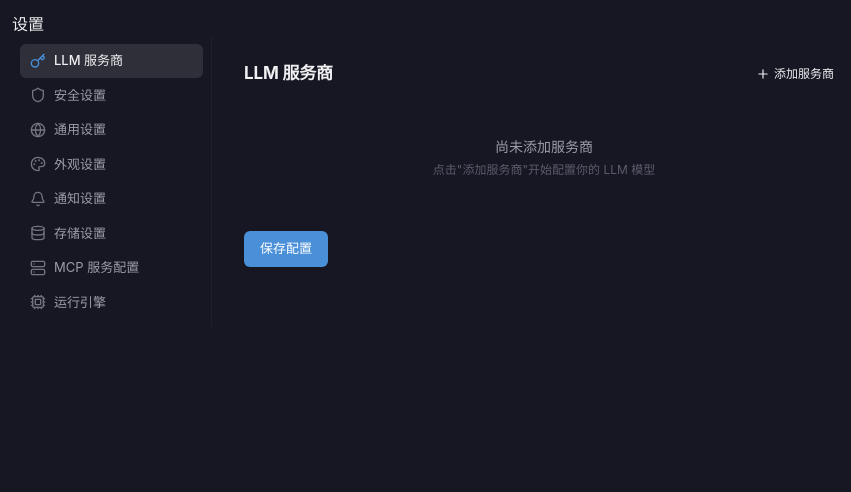
Test case: SettingsView — E2E 关键路径 › renders storage info in storage section
The width and height of the screenshot is (851, 492).
Click the button "存储设置". click: (112, 233)
box: [20,216,203,250]
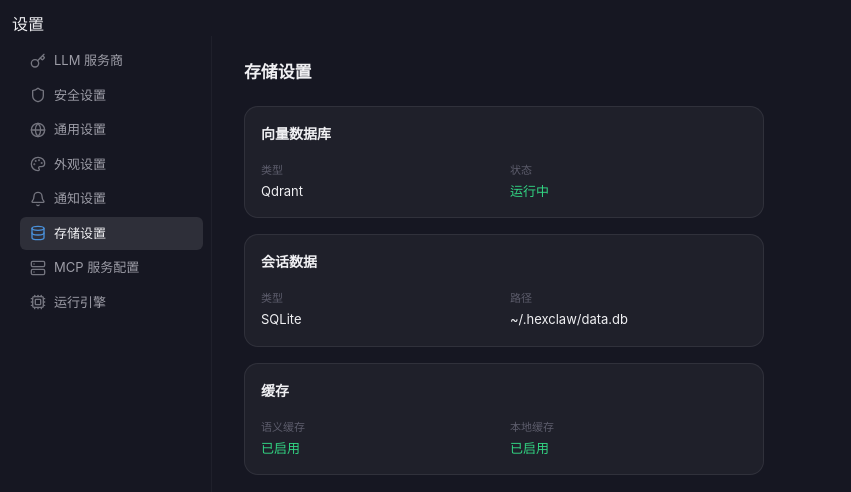
Result: the text "Qdrant" is shown at [261,182,303,198]
Result: the text "SQLite" is shown at [261,311,302,327]
Result: the text "语义缓存" is shown at [261,420,305,434]
